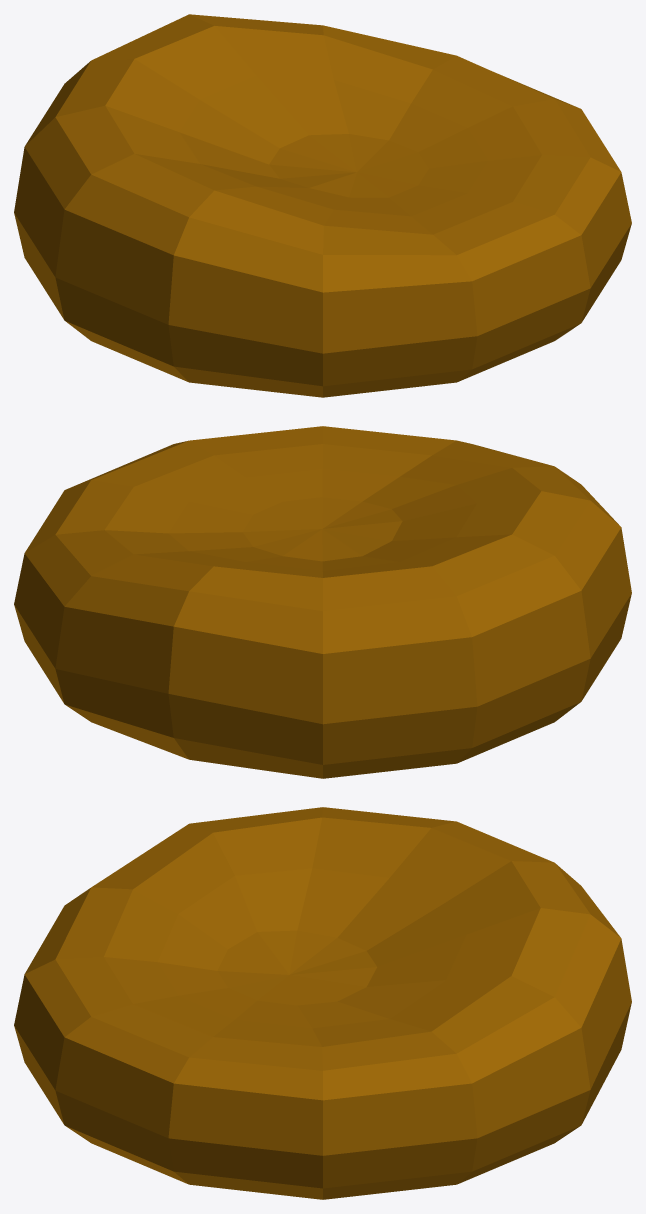
File: SaccoChairV1Orange.fbx
3 views of the same model, one above another, from view 1: azimuth 30°, elevation 25°; view 2: azimuth 150°, elevation 25°; view 3: azimuth 270°, elevation 25° (orthographic).
Parts seen in each view (by area): view 1: SaccoChairV1Orange; view 2: SaccoChairV1Orange; view 3: SaccoChairV1Orange.
Boxes of the visible parts, bbox=[...] form: SaccoChairV1Orange: bbox=[14, 14, 631, 397]; SaccoChairV1Orange: bbox=[14, 426, 631, 778]; SaccoChairV1Orange: bbox=[14, 807, 631, 1199].
Size of the model in its own units: 200 by 69.41 by 200.
